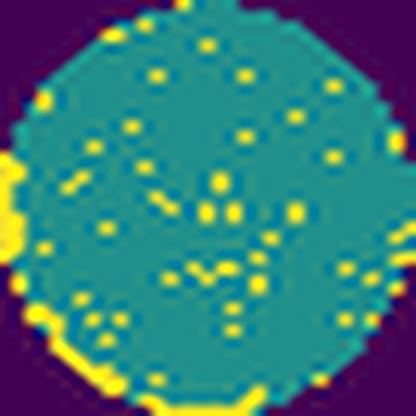Edge-Loc: (26, 299, 130, 400), (136, 382, 268, 416), (0, 155, 33, 268)
